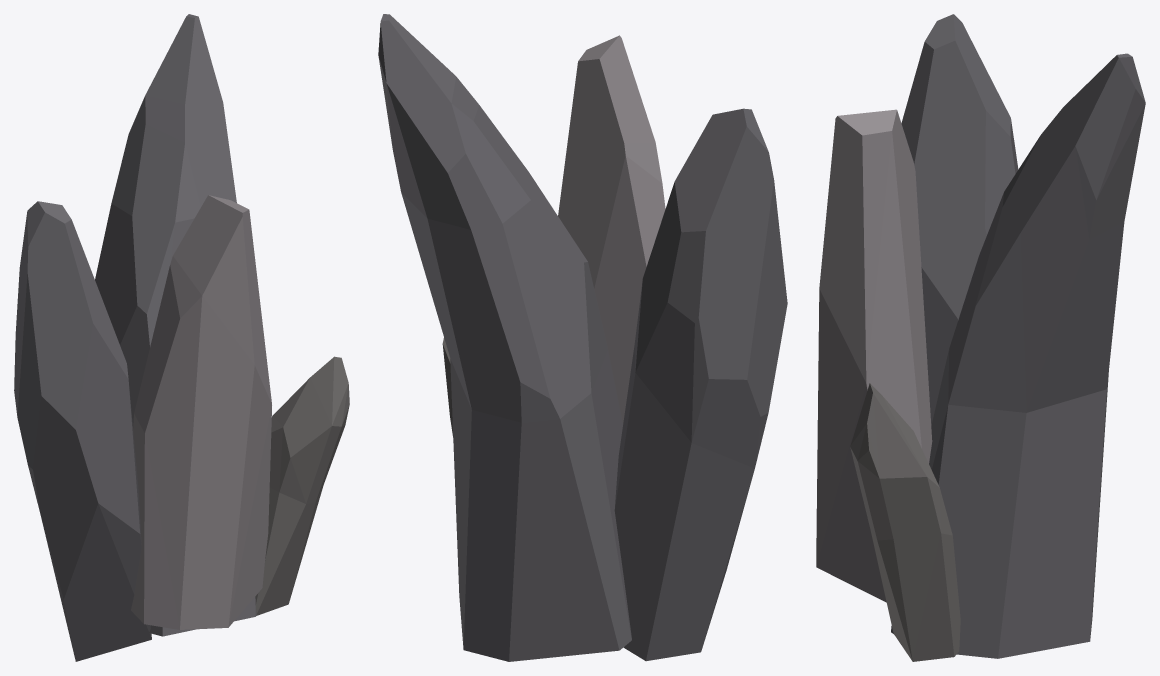
The model's file is Rocks_Sharp_l_03.fbx.
3 views of the same model, side by side, from view 1: azimuth 30°, elevation 25°; view 2: azimuth 150°, elevation 25°; view 3: azimuth 270°, elevation 25° (orthographic). The views are drawn at different scales.
Visible parts, largest first — view 1: Rocks_Sharp_l_03; view 2: Rocks_Sharp_l_03; view 3: Rocks_Sharp_l_03.
Part boxes in pixels (box(x1,y1,x2,y2)): Rocks_Sharp_l_03: box(14, 14, 349, 661); Rocks_Sharp_l_03: box(378, 14, 787, 661); Rocks_Sharp_l_03: box(816, 14, 1145, 661).
Size of the model in its own units: 306 by 543 by 258.
